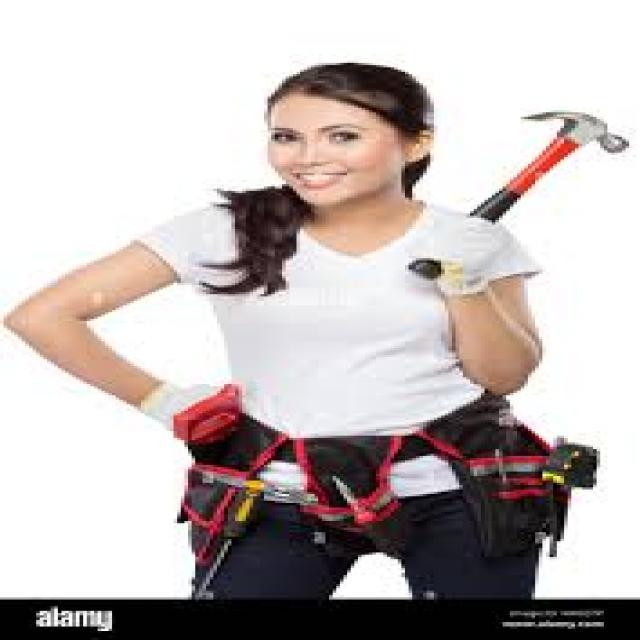hammer: (390, 89, 633, 294)
